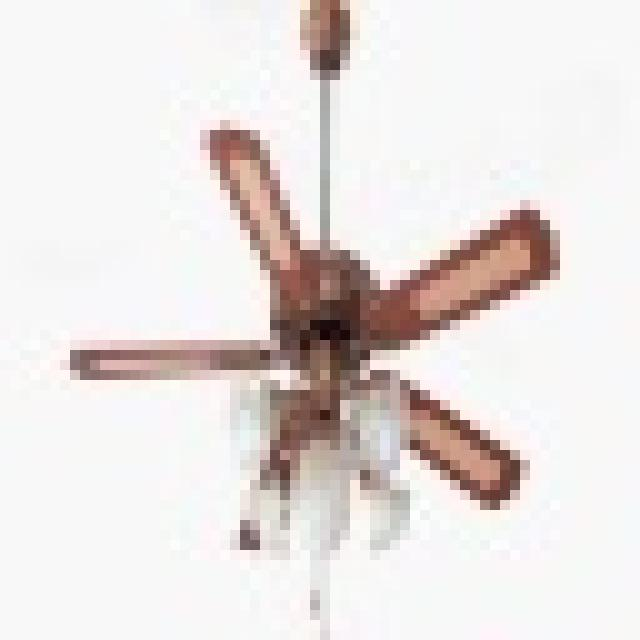Bulb: (51, 121, 581, 591)
